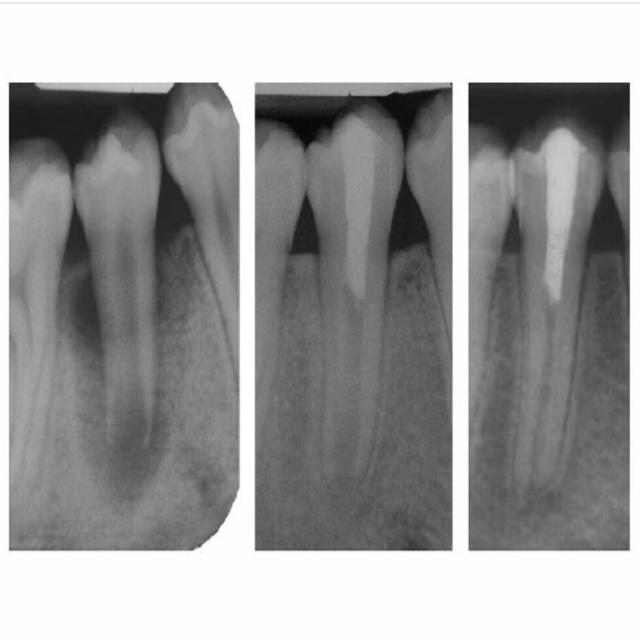Caries: (70, 103, 164, 519)
